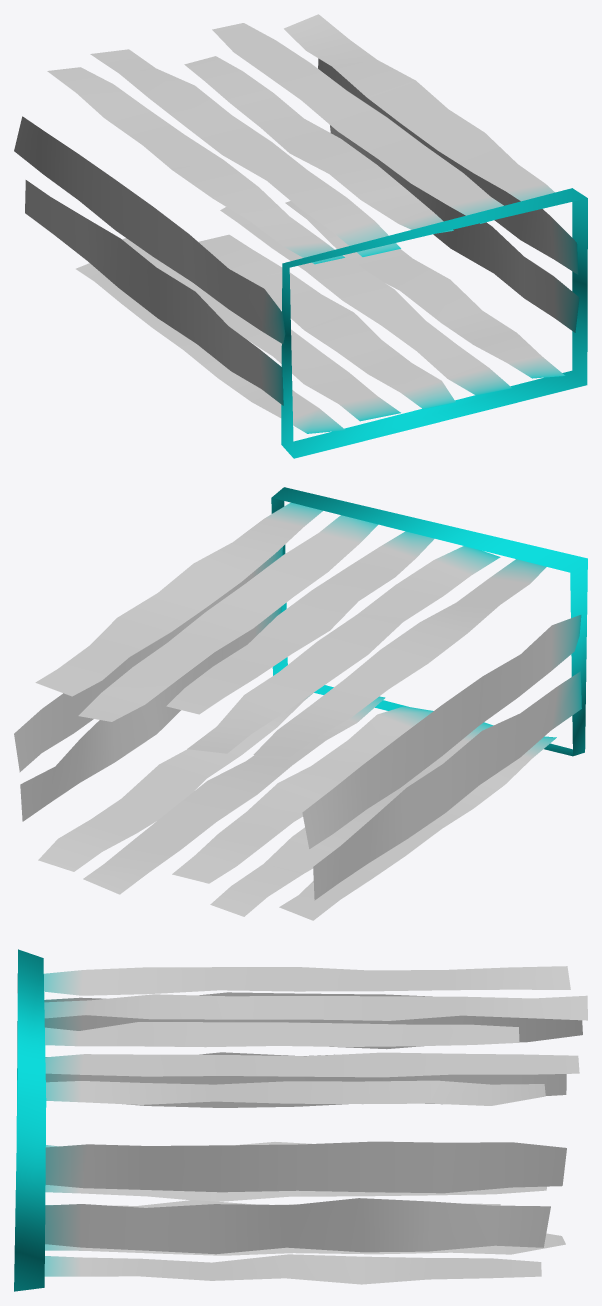
The model's file is Grass Skirt.dae.
3 renders of one model, top to bottom at view 1: azimuth 30°, elevation 25°; view 2: azimuth 150°, elevation 25°; view 3: azimuth 270°, elevation 25°, orthographic. The views are drawn at different scales.
Parts seen in each view (by area): view 1: Grass Skirt; view 2: Grass Skirt; view 3: Grass Skirt.
Boxes of the visible parts, x1,y1,x2,y2 form: Grass Skirt: (14, 14, 587, 458); Grass Skirt: (14, 487, 587, 920); Grass Skirt: (14, 949, 587, 1291).
Bounding box in the file's own units: 0.5524 × 0.884 × 0.335.
